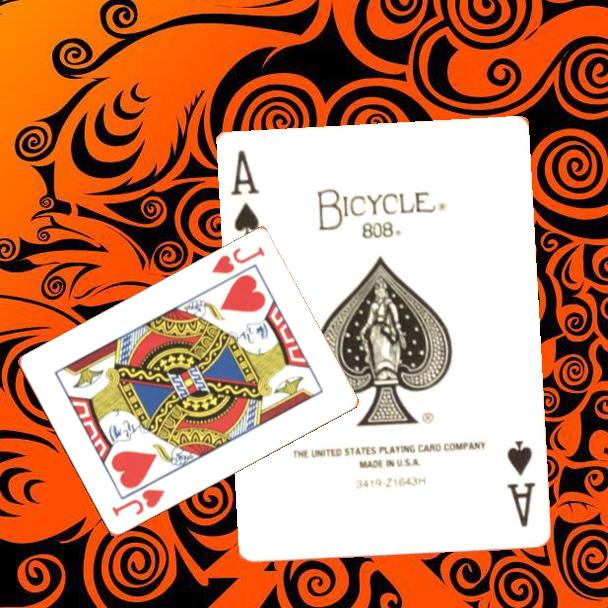h11: (108, 486, 168, 520), (208, 243, 268, 277)
s01: (226, 145, 261, 241), (503, 437, 538, 530)
